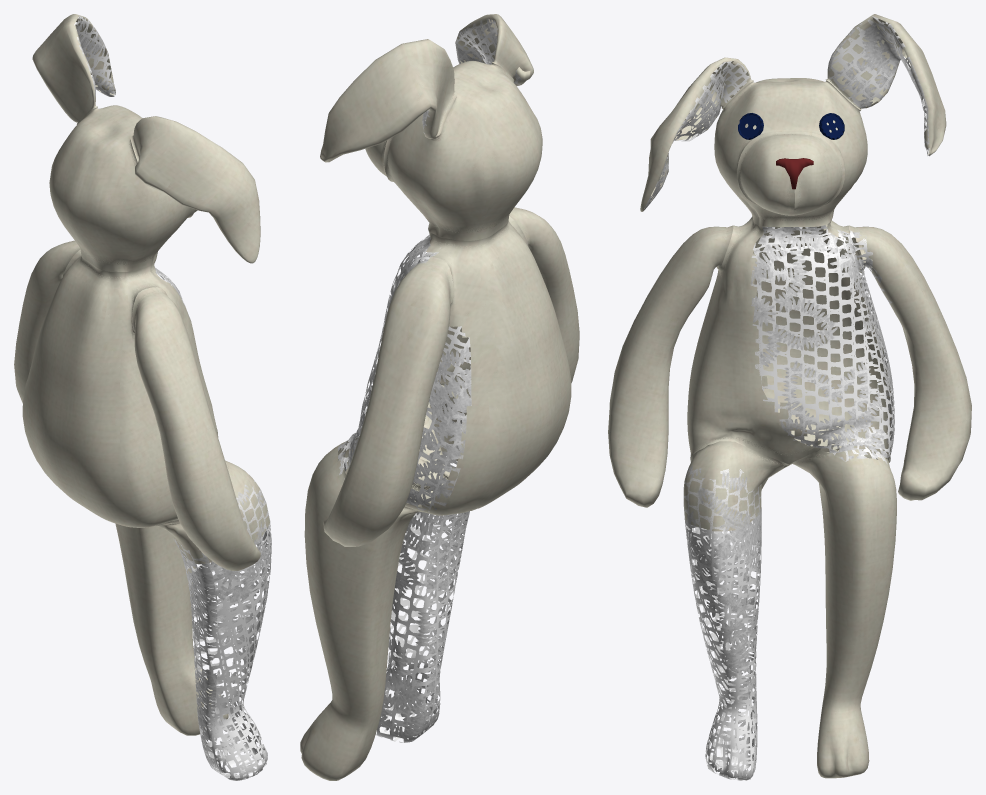
File: toy2.fbx
The picture shows the model from 3 angles, left to right: view 1: azimuth 30°, elevation 25°; view 2: azimuth 150°, elevation 25°; view 3: azimuth 270°, elevation 25°; orthographic projection. The views are drawn at different scales.
Parts seen in each view (by area): view 1: Cube; view 2: Cube; view 3: Cube, Cylinder.
Boxes of the visible parts, <box> form: Cube: <box>14,14,271,780</box>; Cube: <box>300,14,579,780</box>; Cube: <box>608,14,971,780</box>; Cylinder: <box>738,113,844,139</box>.
Bounding box in the file's own units: 35.23 × 118 × 54.73.
4 materials, 2 textured.
